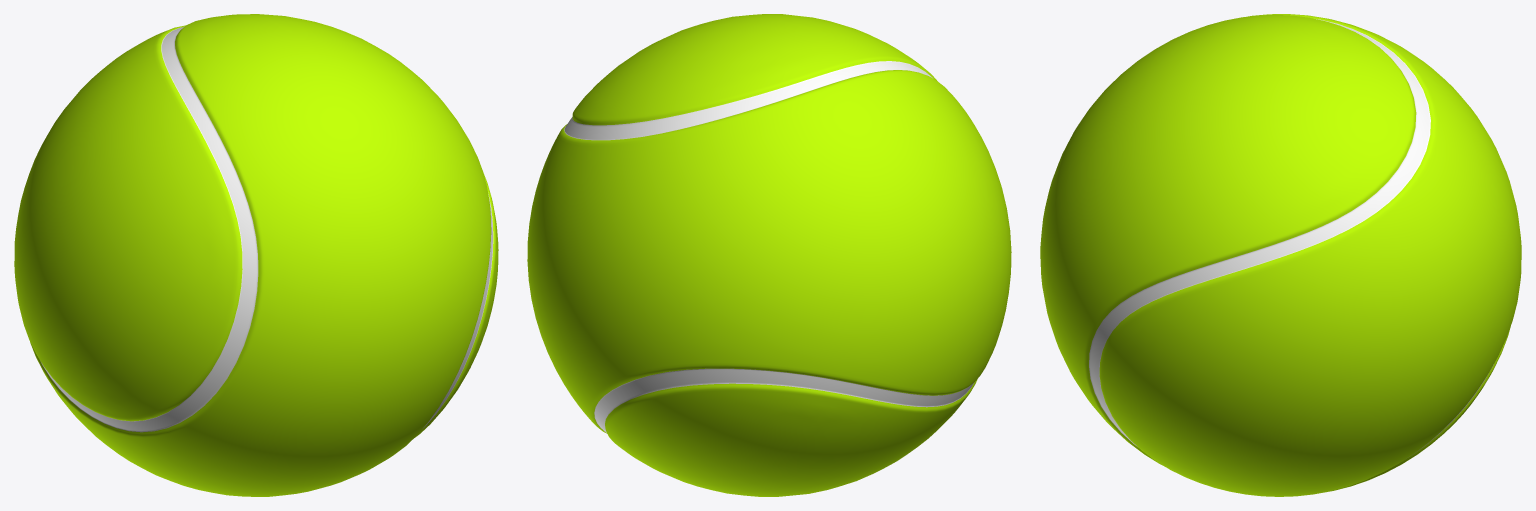
File: TennisBall.obj
The picture shows the model from 3 angles, left to right: view 1: azimuth 30°, elevation 25°; view 2: azimuth 150°, elevation 25°; view 3: azimuth 270°, elevation 25°; orthographic projection.
Parts seen in each view (by area): view 1: Ball; view 2: Ball; view 3: Ball.
Boxes of the visible parts, box(x1,y1,x2,y2) form: Ball: box(14, 14, 498, 496); Ball: box(527, 14, 1011, 496); Ball: box(1040, 14, 1521, 496).
Size of the model in its own units: 83.72 by 83.76 by 83.8.
